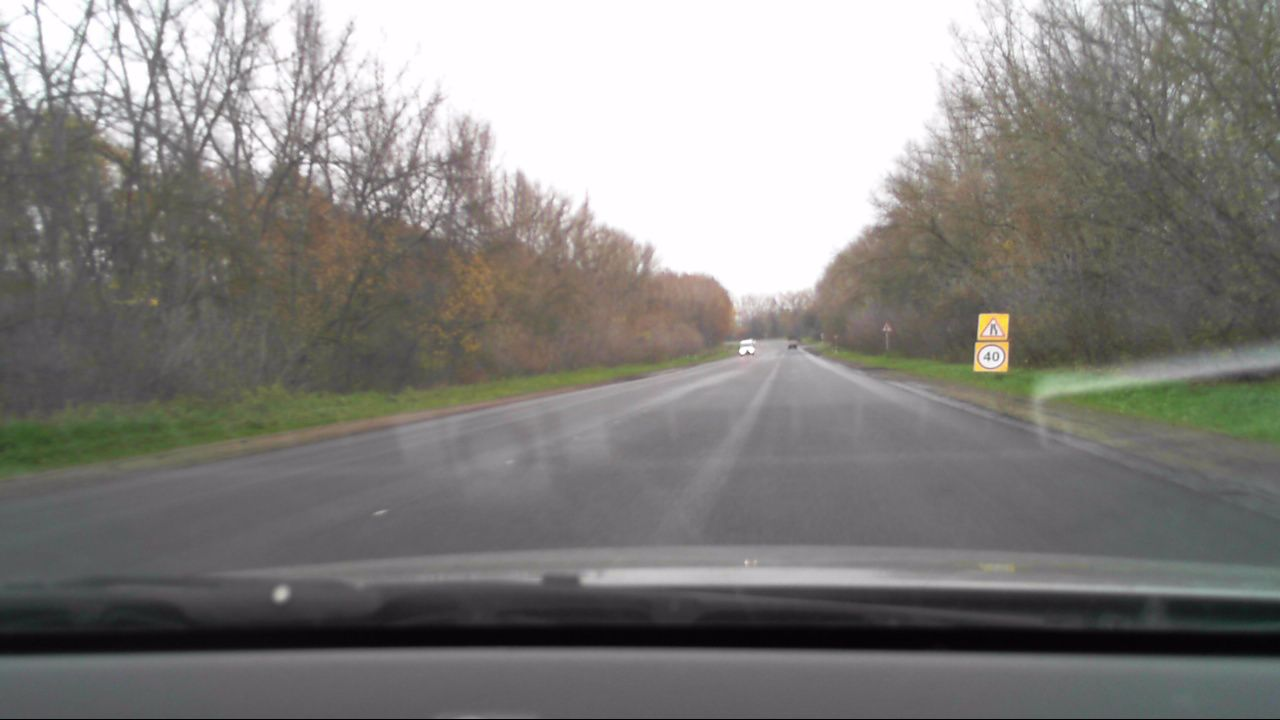speed_warning_40: (975, 343, 1008, 372)
